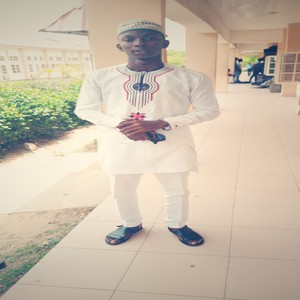Fulokoja_male_student: (80, 22, 206, 247)
